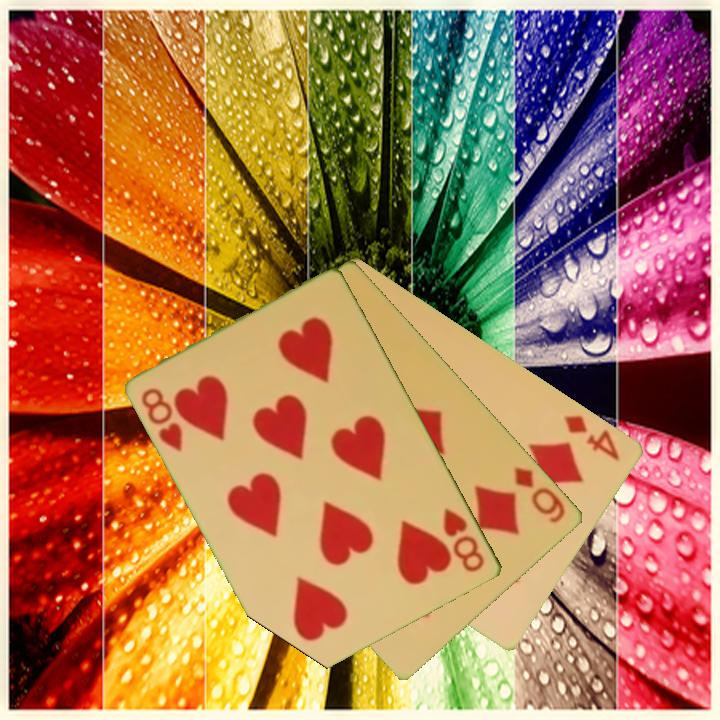4d: (561, 411, 624, 464)
6d: (511, 463, 569, 527)
8h: (440, 504, 489, 575), (138, 384, 187, 455)
